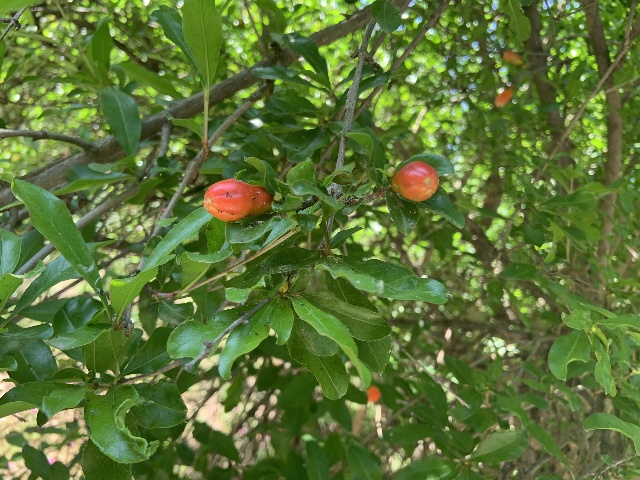bud: (203, 178, 272, 221), (392, 160, 438, 201), (495, 87, 512, 107), (502, 50, 523, 66)
